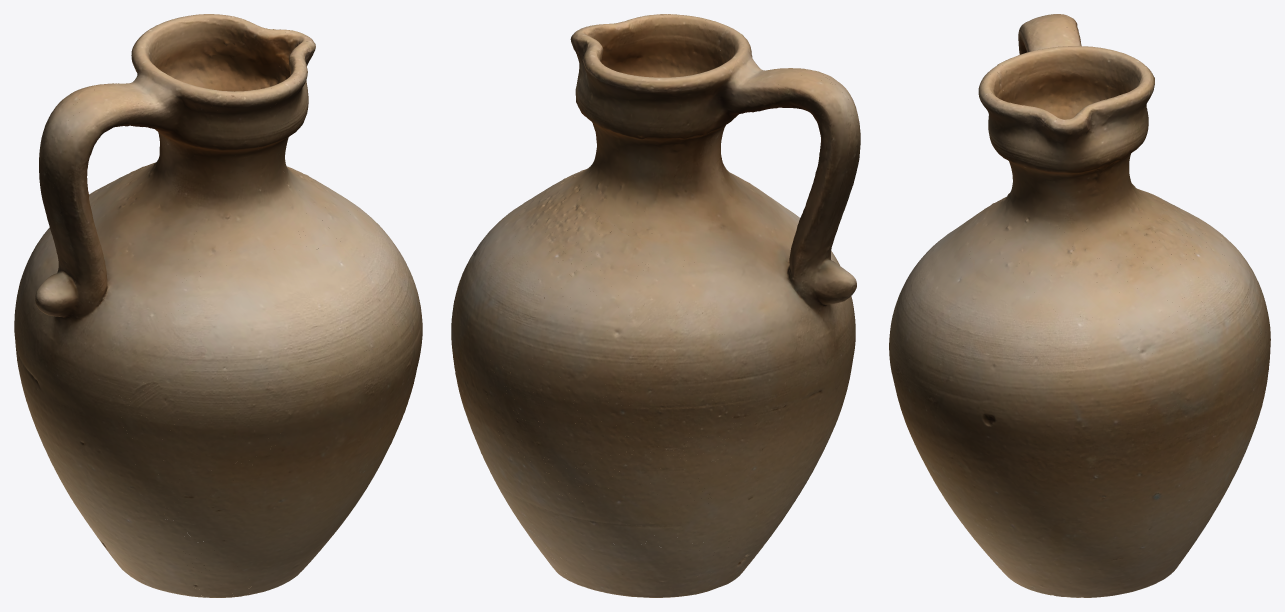
Rendered from botija_de_boca_de_vinagre.glb.
3 renders of one model, left to right at view 1: azimuth 30°, elevation 25°; view 2: azimuth 150°, elevation 25°; view 3: azimuth 270°, elevation 25°, orthographic. The views are drawn at different scales.
Parts seen in each view (by area): view 1: Object_2, Object_3; view 2: Object_2, Object_3; view 3: Object_3, Object_2.
Part boxes in pixels (<box>): Object_2: <box>14,14,398,597</box>; Object_3: <box>17,30,422,597</box>; Object_2: <box>451,14,859,595</box>; Object_3: <box>451,14,860,597</box>; Object_3: <box>889,14,1270,597</box>; Object_2: <box>891,14,1270,571</box>.
Bounding box in the file's own units: 1.26 × 1.7 × 1.21.
1 material, 1 textured.
